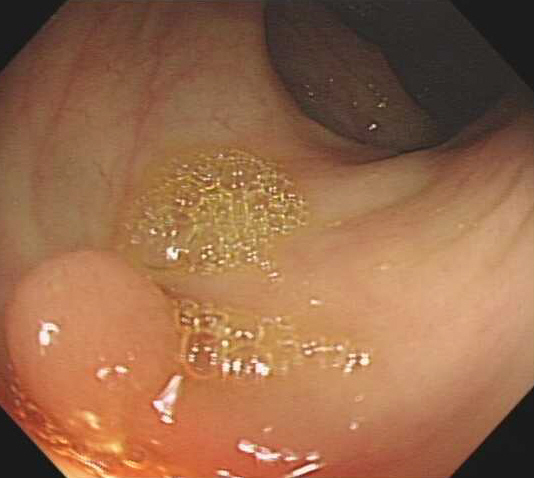adenoma: (6, 247, 183, 438)
